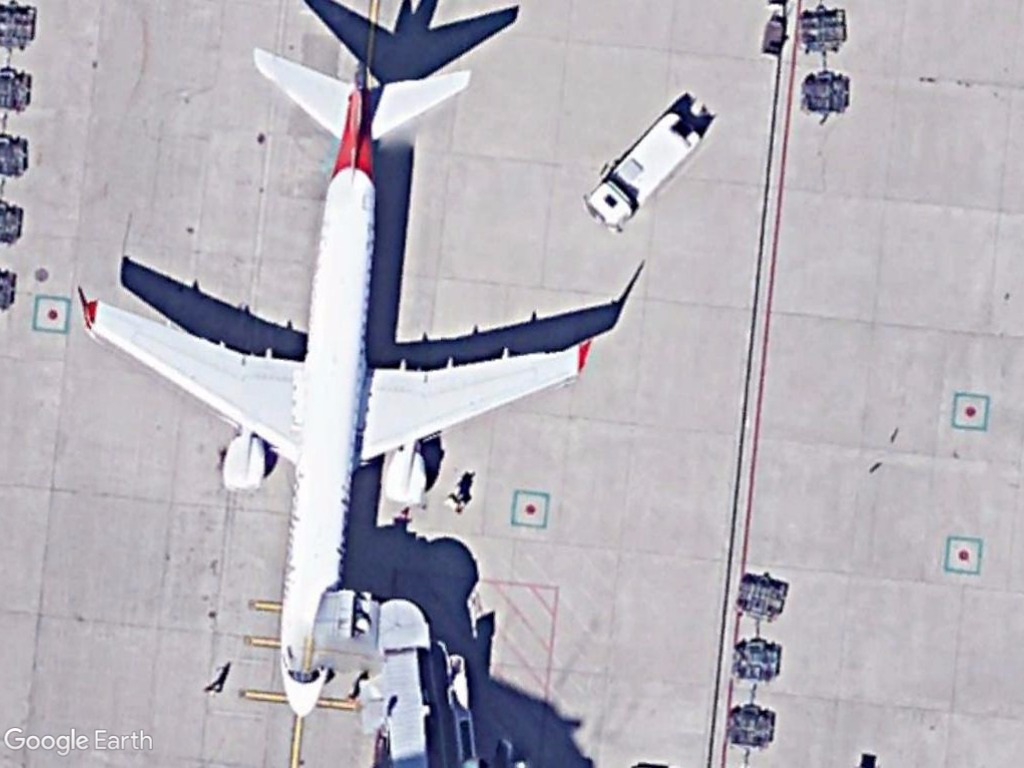airliner: (82, 39, 587, 730)
others: (582, 109, 703, 234)
